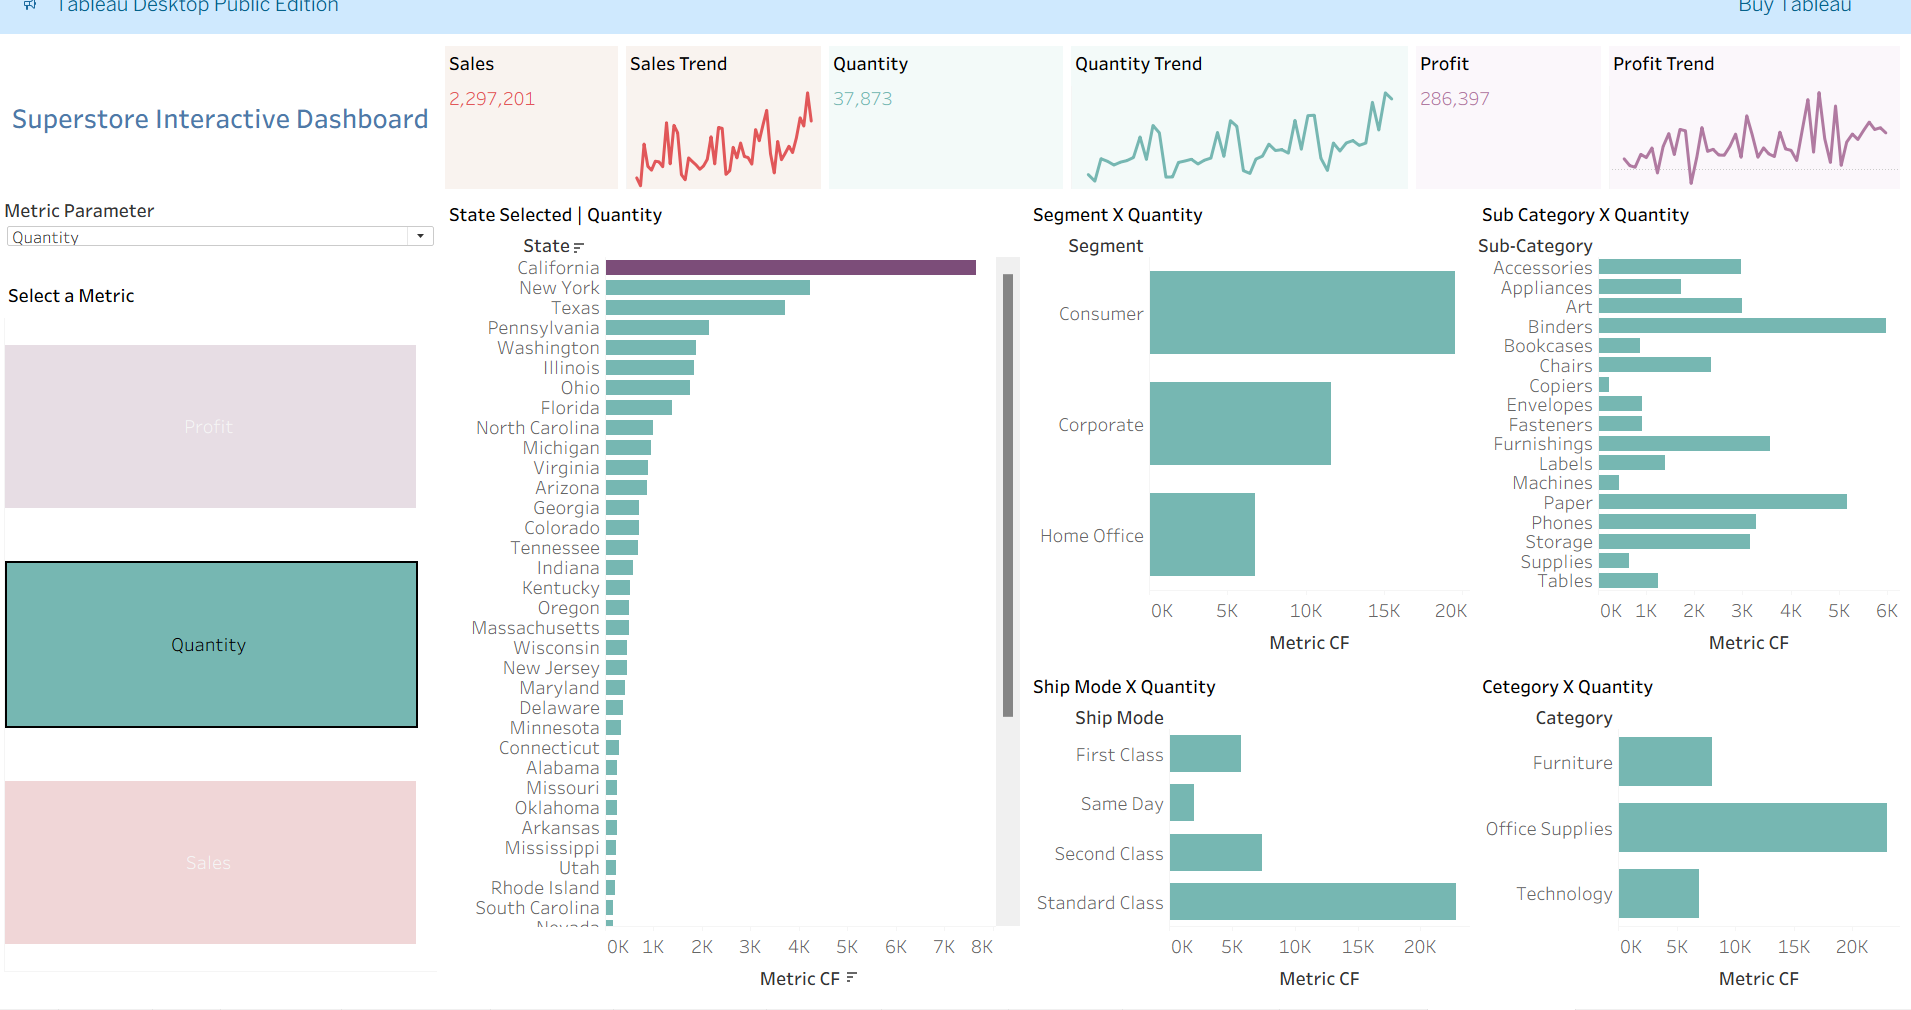

What the dashboard file says about the page in this screenshot:
{"tool":"tableau","page":{"name":"Dashboard 1","canvas":[1000,1000],"units":"permille","ordinal":0},"visuals":[{"type":"text","box":[4.2,10.7,229.8,154.1]},{"type":"worksheet","title":"Sales","mark":"Automatic","box":[234,10.7,96.2,154.1]},{"type":"worksheet","title":"Sales Trend","mark":"Automatic","rows":["Sales"],"cols":["Order Date"],"box":[330.2,10.7,107.9,154.1]},{"type":"worksheet","title":"Quantity","mark":"Automatic","box":[438.1,10.7,128.6,154.1]},{"type":"worksheet","title":"Quantity Trend","mark":"Automatic","rows":["Quantity"],"cols":["Order Date"],"box":[566.6,10.7,183.3,154.1]},{"type":"worksheet","title":"Profit","mark":"Automatic","box":[750,10.7,102.5,154.1]},{"type":"worksheet","title":"Profit Trend","mark":"Automatic","rows":["Profit"],"cols":["Order Date"],"box":[852.5,10.7,143.2,154.1]},{"type":"worksheet","title":"State Selected |","mark":"Automatic","rows":["State"],"cols":["Calculation_1188387385099243520"],"box":[234,164.8,303.8,824.4]},{"type":"worksheet","title":"Segment X","mark":"Automatic","rows":["Segment"],"cols":["Calculation_1188387385099243520"],"box":[537.9,164.8,234,481.2]},{"type":"worksheet","title":"Sub Category X","mark":"Automatic","rows":["Sub-Category"],"cols":["Calculation_1188387385099243520"],"box":[771.9,164.8,223.9,481.9]},{"type":"parameter","param":"[Parameters].[Parameter 1]","box":[4.2,164.9,229.8,108.6]},{"type":"worksheet","title":"Select a Metric","mark":"Automatic","cols":["Calculation_1188387385146552323"],"box":[4.2,273.4,229.8,715.8]},{"type":"worksheet","title":"Ship Mode X","mark":"Automatic","rows":["Ship Mode"],"cols":["Calculation_1188387385099243520"],"box":[537.9,646.1,234,343.2]},{"type":"worksheet","title":"Cetegory X","mark":"Automatic","rows":["Category"],"cols":["Calculation_1188387385099243520"],"box":[771.9,646.7,223.9,342.6]}]}

Visuals, with their boxes on the dashboard's canvas, which has no fixed pixel size, in thousandths of its width and height (x1, y1, x2, y2). These are canvas units, not pixel positions in the 1911x1010 screenshot, which may show the page scaled, cropped or inside an application window:
text: locate(4, 11, 234, 165)
"Sales" worksheet: locate(234, 11, 330, 165)
"Sales Trend" worksheet: locate(330, 11, 438, 165)
"Quantity" worksheet: locate(438, 11, 567, 165)
"Quantity Trend" worksheet: locate(567, 11, 750, 165)
"Profit" worksheet: locate(750, 11, 852, 165)
"Profit Trend" worksheet: locate(852, 11, 996, 165)
"State Selected |" worksheet: locate(234, 165, 538, 989)
"Segment X" worksheet: locate(538, 165, 772, 646)
"Sub Category X" worksheet: locate(772, 165, 996, 647)
parameter: locate(4, 165, 234, 274)
"Select a Metric" worksheet: locate(4, 273, 234, 989)
"Ship Mode X" worksheet: locate(538, 646, 772, 989)
"Cetegory X" worksheet: locate(772, 647, 996, 989)
